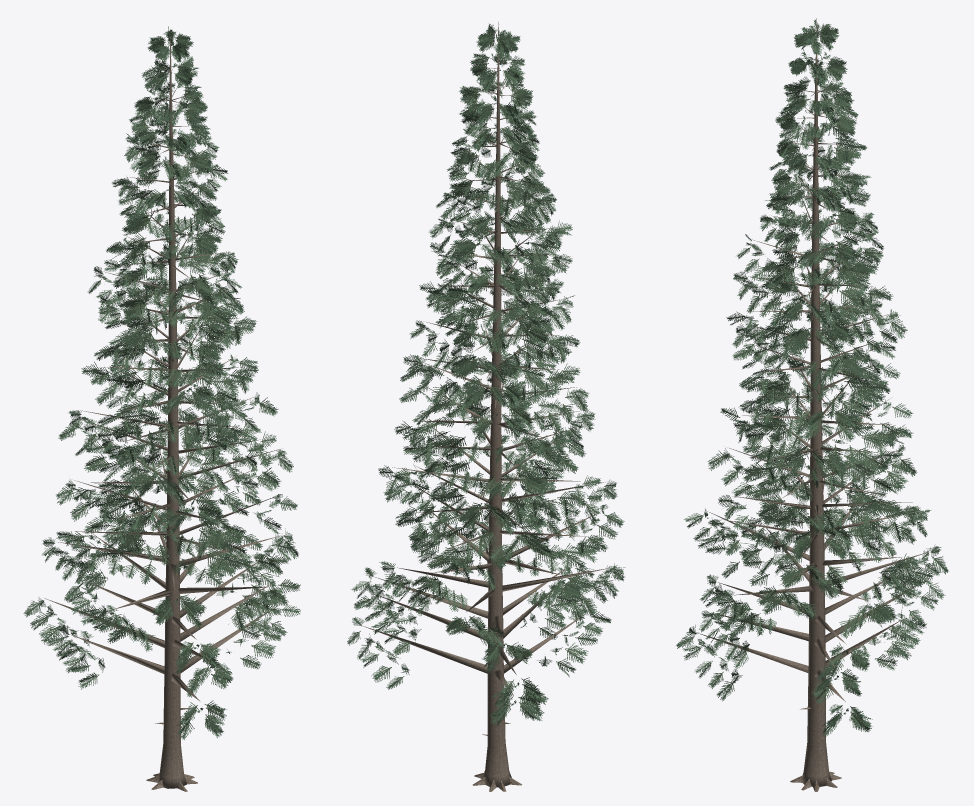
File: SS_Defect_CoarseBranch_PostMature_01_LOD2.fbx
3 views of the same model, side by side, from view 1: azimuth 30°, elevation 25°; view 2: azimuth 150°, elevation 25°; view 3: azimuth 270°, elevation 25° (orthographic).
Parts seen in each view (by area): view 1: SS_Defect_CoarseBranch_PostMature_01_LOD2_Foliage, SS_Defect_CoarseBranch_PostMature_01_LOD2_Branches, SS_Defect_CoarseBranch_PostMature_01_LOD2_Trunk; view 2: SS_Defect_CoarseBranch_PostMature_01_LOD2_Foliage, SS_Defect_CoarseBranch_PostMature_01_LOD2_Branches, SS_Defect_CoarseBranch_PostMature_01_LOD2_Trunk; view 3: SS_Defect_CoarseBranch_PostMature_01_LOD2_Foliage, SS_Defect_CoarseBranch_PostMature_01_LOD2_Branches, SS_Defect_CoarseBranch_PostMature_01_LOD2_Trunk.
Boxes of the visible parts, left/top/right/bottom form: SS_Defect_CoarseBranch_PostMature_01_LOD2_Foliage: left=23, top=26, right=300, bottom=739; SS_Defect_CoarseBranch_PostMature_01_LOD2_Branches: left=44, top=37, right=281, bottom=724; SS_Defect_CoarseBranch_PostMature_01_LOD2_Trunk: left=146, top=30, right=197, bottom=791; SS_Defect_CoarseBranch_PostMature_01_LOD2_Foliage: left=347, top=24, right=625, bottom=726; SS_Defect_CoarseBranch_PostMature_01_LOD2_Branches: left=363, top=56, right=611, bottom=735; SS_Defect_CoarseBranch_PostMature_01_LOD2_Trunk: left=472, top=22, right=521, bottom=791; SS_Defect_CoarseBranch_PostMature_01_LOD2_Foliage: left=676, top=20, right=948, bottom=736; SS_Defect_CoarseBranch_PostMature_01_LOD2_Branches: left=696, top=57, right=928, bottom=738; SS_Defect_CoarseBranch_PostMature_01_LOD2_Trunk: left=790, top=18, right=841, bottom=791.
Size of the model in its own units: 1126 by 3100 by 1079.
2 materials, 2 textured.
